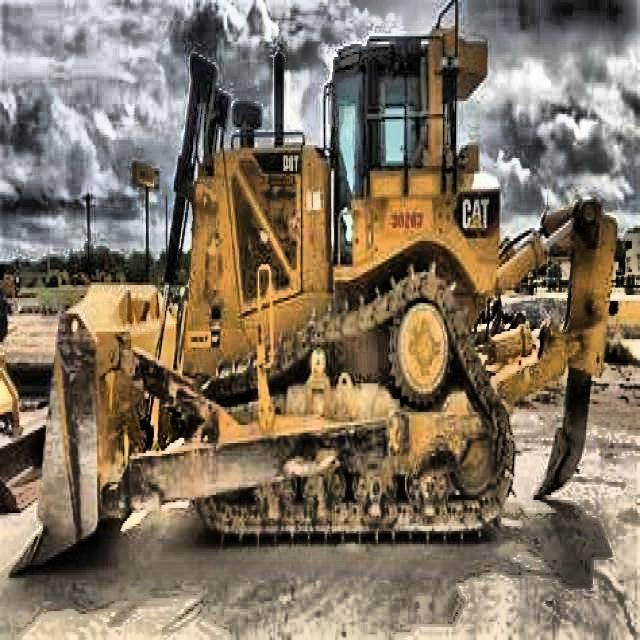bull_dozer/loader/grader: (31, 13, 627, 627)
